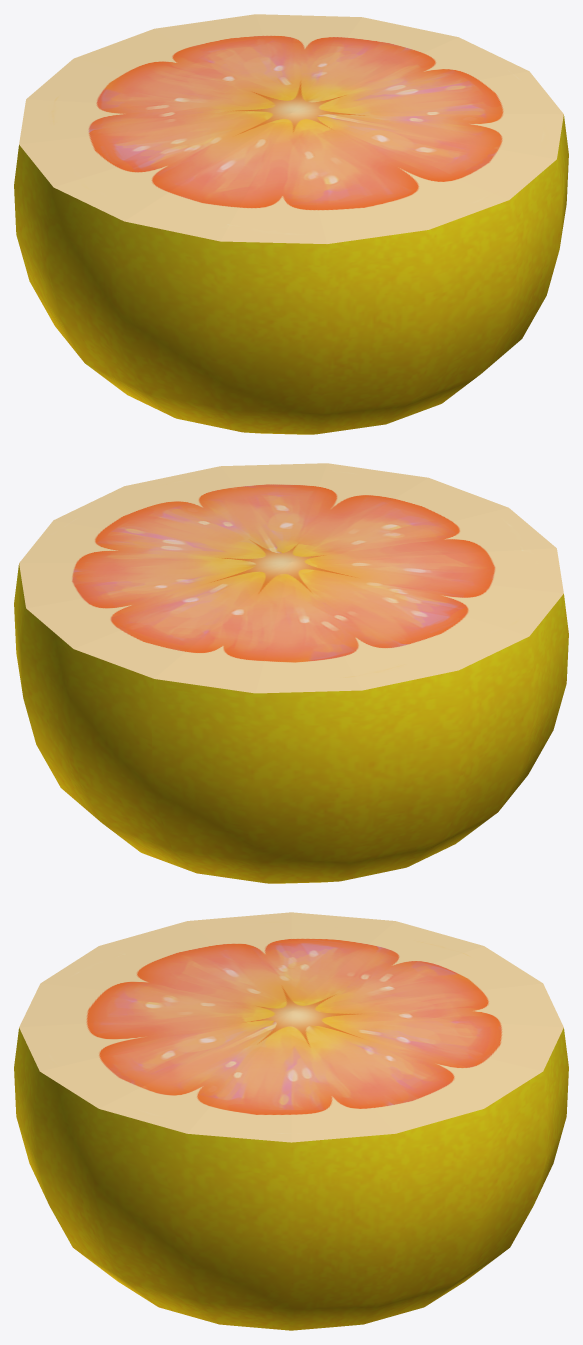
File: Pomelo_Yellow_Half.fbx
The picture shows the model from 3 angles, top to bottom: view 1: azimuth 30°, elevation 25°; view 2: azimuth 150°, elevation 25°; view 3: azimuth 270°, elevation 25°; orthographic projection.
Visible parts, largest first — view 1: Pomelo_Yellow_Half; view 2: Pomelo_Yellow_Half; view 3: Pomelo_Yellow_Half.
Part boxes in pixels (x1,y1,x2,y2): Pomelo_Yellow_Half: (14,14,568,434); Pomelo_Yellow_Half: (14,463,568,883); Pomelo_Yellow_Half: (14,912,568,1330).
Bounding box in the file's own units: 45.63 × 25.77 × 45.63.
